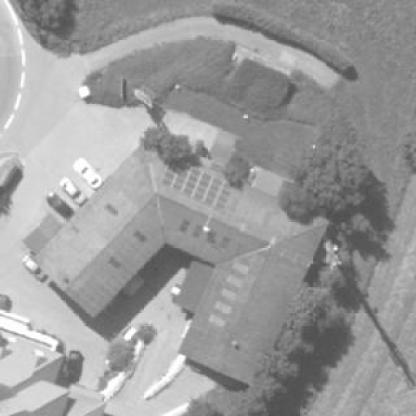solar-pv-panel: (161, 158, 236, 212)
